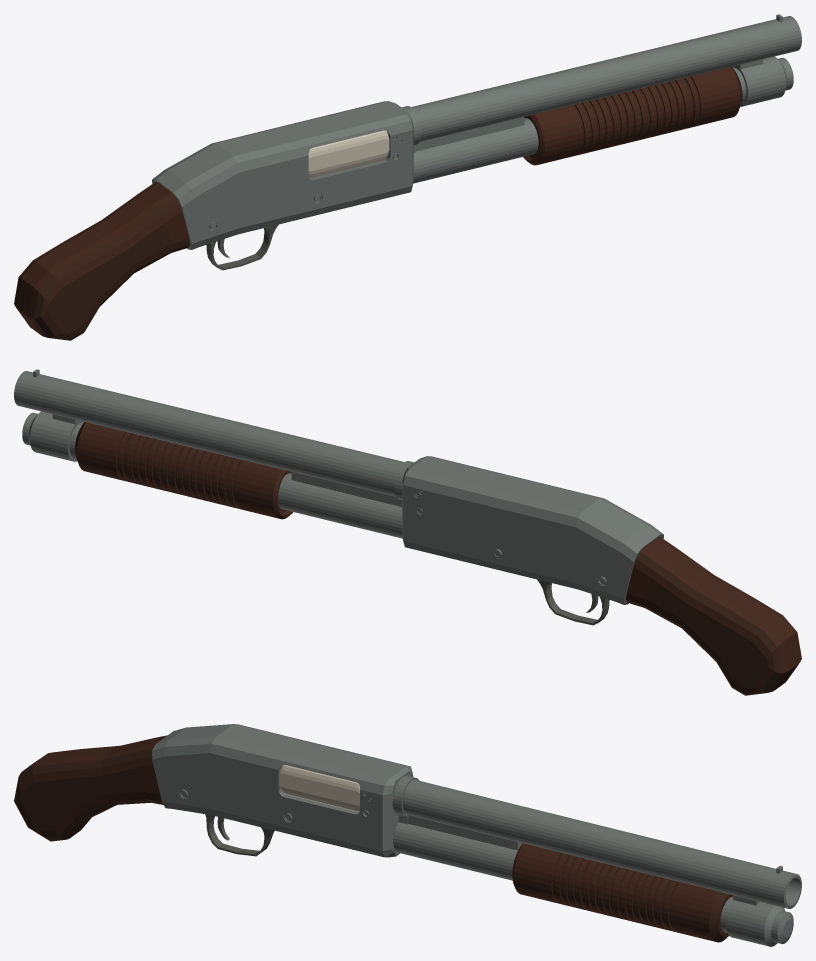
File: Shorty.glb
3 views of the same model, one above another, from view 1: azimuth 30°, elevation 25°; view 2: azimuth 150°, elevation 25°; view 3: azimuth 330°, elevation 25° (orthographic).
Visible parts, largest first — view 1: Cube; view 2: Cube; view 3: Cube.
Boxes of the visible parts, x1,y1,x2,y2 form: Cube: (14, 14, 801, 340); Cube: (14, 369, 801, 695); Cube: (14, 724, 801, 946).
Size of the model in its own units: 8.94 by 1.61 by 0.6294.
